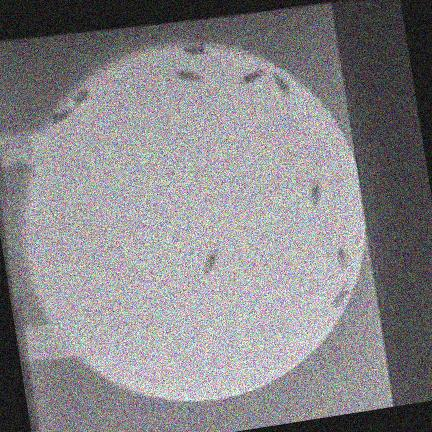fly: (273, 73, 292, 94), (240, 68, 264, 84), (51, 107, 73, 124), (176, 69, 202, 82), (204, 251, 218, 274), (334, 287, 350, 306), (184, 43, 209, 55), (310, 182, 322, 204), (337, 247, 349, 268), (73, 89, 88, 103)
